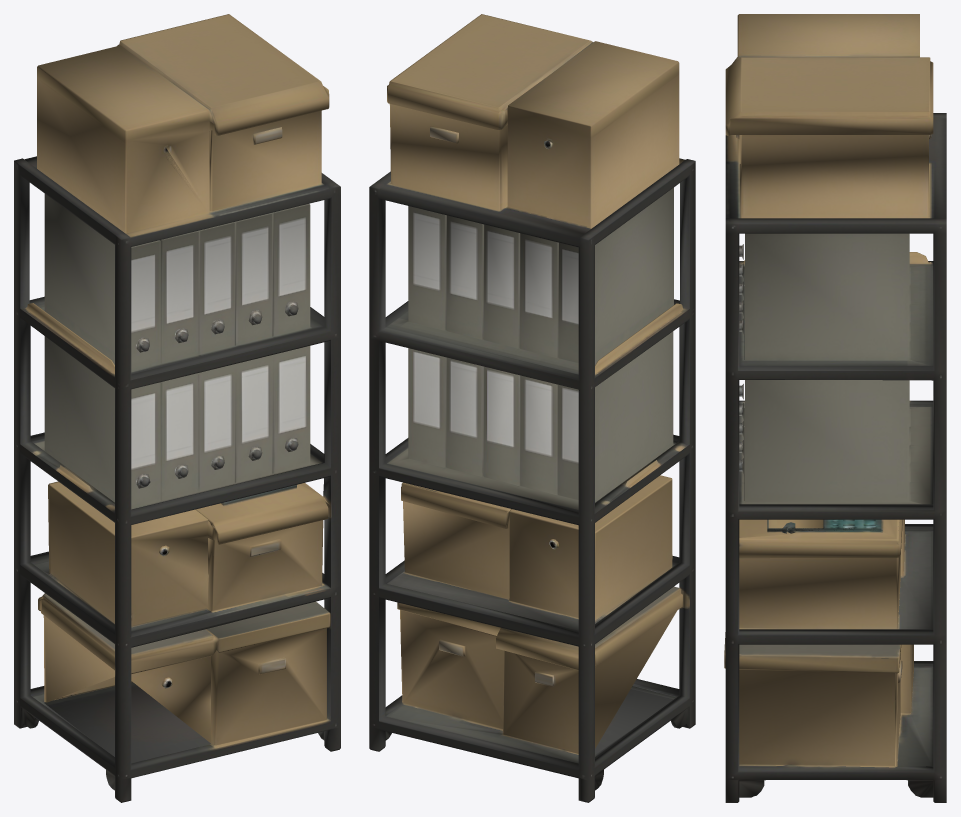
Rendered from storage-shelf-v1.glb.
3 views of the same model, side by side, from view 1: azimuth 30°, elevation 25°; view 2: azimuth 150°, elevation 25°; view 3: azimuth 270°, elevation 25° (orthographic). The views are drawn at different scales.
Visible parts, largest first — view 1: tripo_node_a799d118-ce3b-43c9-b715-319f98a1a724; view 2: tripo_node_a799d118-ce3b-43c9-b715-319f98a1a724; view 3: tripo_node_a799d118-ce3b-43c9-b715-319f98a1a724.
Part boxes in pixels (left/top/right/bottom): tripo_node_a799d118-ce3b-43c9-b715-319f98a1a724: left=14, top=14, right=340, bottom=802; tripo_node_a799d118-ce3b-43c9-b715-319f98a1a724: left=369, top=14, right=695, bottom=802; tripo_node_a799d118-ce3b-43c9-b715-319f98a1a724: left=724, top=14, right=946, bottom=802.
Bounding box in the file's own units: 0.6281 × 1.82 × 0.5353.
1 material, 1 textured.
